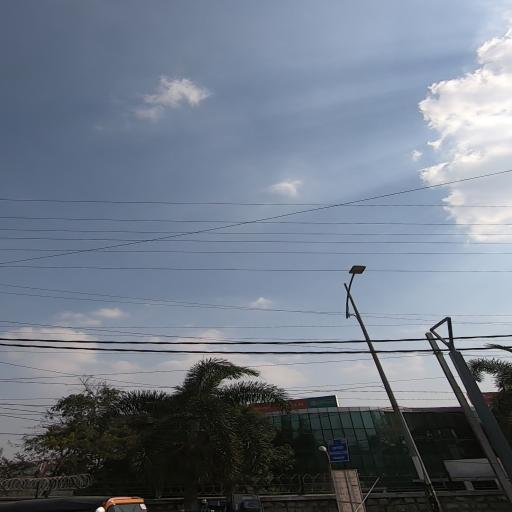Street_light: (343, 263, 369, 287)
